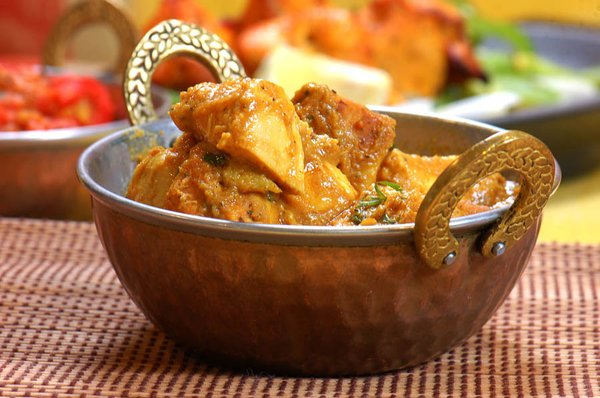sushi: (68, 54, 574, 377)
